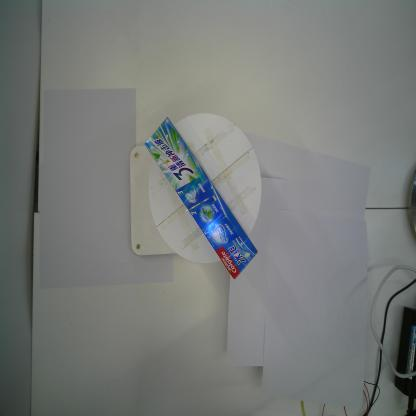Personal Hygiene: (144, 115, 258, 282)
